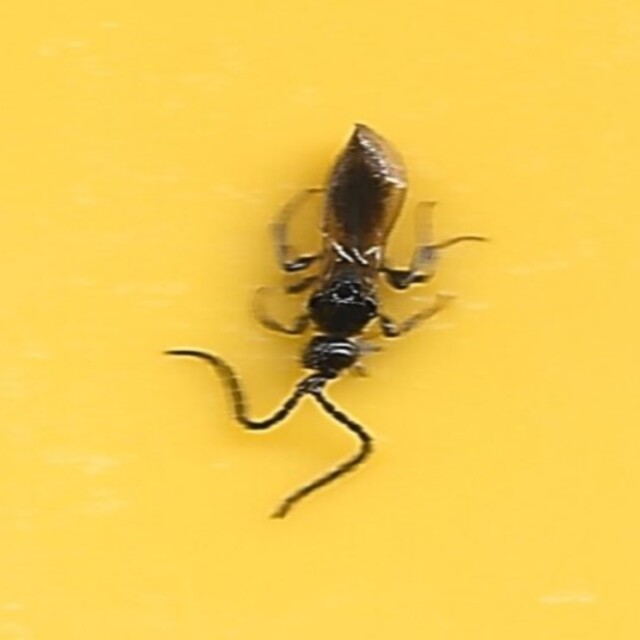Hymenoptera: (171, 119, 469, 521)
